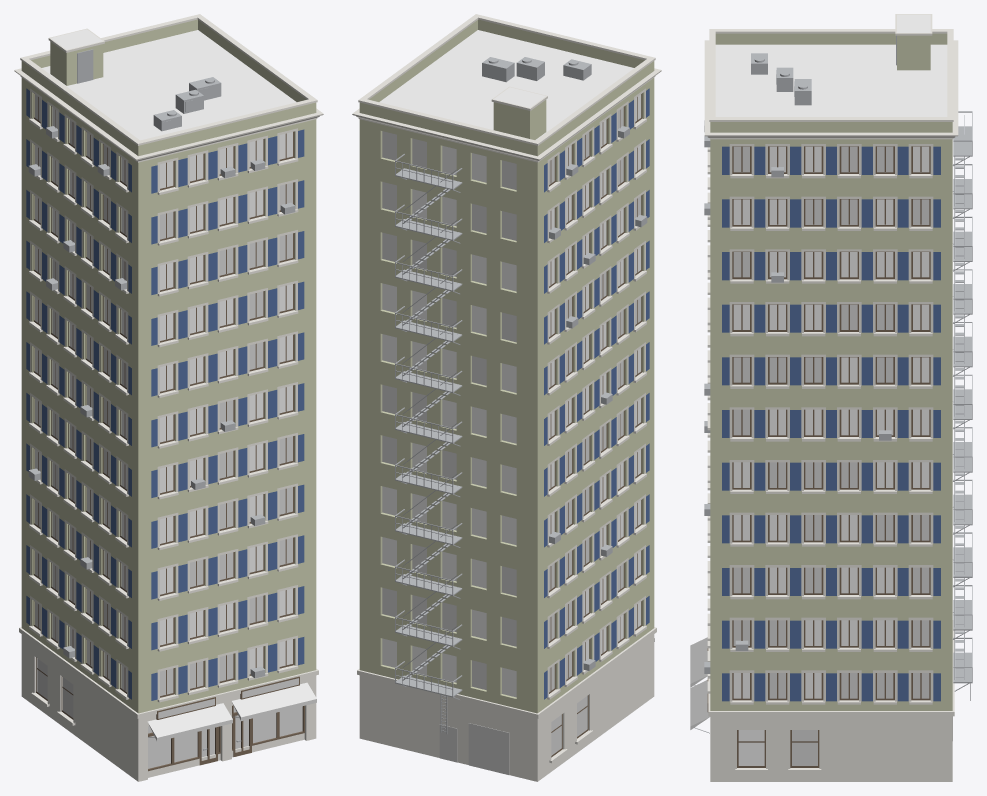
Rendered from midtown_w44f11.glb.
3 renders of one model, left to right at view 1: azimuth 30°, elevation 25°; view 2: azimuth 150°, elevation 25°; view 3: azimuth 270°, elevation 25°, orthographic. The views are drawn at different scales.
Parts seen in each view (by area): view 1: midtown_w44f11_Walls, midtown_w44f11_Trim, midtown_w44f11_Accent, midtown_w44f11_Glass, midtown_w44f11_WindowsLit, midtown_w44f11_Frames, midtown_w44f11_Roof, midtown_w44f11_Details, midtown_w44f11_Awning, midtown_w44f11_Sign; view 2: midtown_w44f11_Walls, midtown_w44f11_Trim, midtown_w44f11_Glass, midtown_w44f11_Details, midtown_w44f11_WindowsLit, midtown_w44f11_Roof, midtown_w44f11_Accent, midtown_w44f11_Frames, midtown_w44f11_Doors; view 3: midtown_w44f11_Walls, midtown_w44f11_Trim, midtown_w44f11_Accent, midtown_w44f11_Glass, midtown_w44f11_Roof, midtown_w44f11_Frames, midtown_w44f11_WindowsLit, midtown_w44f11_Details, midtown_w44f11_Awning.
Part boxes in pixels (<box>): midtown_w44f11_Walls: <box>21,19,316,713</box>; midtown_w44f11_Trim: <box>14,14,323,781</box>; midtown_w44f11_Accent: <box>26,88,304,700</box>; midtown_w44f11_Glass: <box>35,107,292,692</box>; midtown_w44f11_WindowsLit: <box>35,94,302,768</box>; midtown_w44f11_Frames: <box>33,93,304,771</box>; midtown_w44f11_Roof: <box>42,29,296,140</box>; midtown_w44f11_Details: <box>28,49,295,750</box>; midtown_w44f11_Awning: <box>147,682,316,741</box>; midtown_w44f11_Sign: <box>158,678,298,718</box>; midtown_w44f11_Walls: <box>359,19,654,713</box>; midtown_w44f11_Trim: <box>352,14,661,781</box>; midtown_w44f11_Glass: <box>382,94,640,697</box>; midtown_w44f11_Details: <box>395,57,647,733</box>; midtown_w44f11_WindowsLit: <box>382,107,640,755</box>; midtown_w44f11_Roof: <box>379,30,633,140</box>; midtown_w44f11_Accent: <box>544,88,649,699</box>; midtown_w44f11_Frames: <box>549,93,642,757</box>; midtown_w44f11_Doors: <box>439,723,509,774</box>; midtown_w44f11_Walls: <box>710,33,952,710</box>; midtown_w44f11_Trim: <box>704,14,958,781</box>; midtown_w44f11_Accent: <box>722,146,940,701</box>; midtown_w44f11_Glass: <box>733,146,929,765</box>; midtown_w44f11_Roof: <box>715,14,947,116</box>; midtown_w44f11_Frames: <box>707,146,930,767</box>; midtown_w44f11_WindowsLit: <box>733,146,929,765</box>; midtown_w44f11_Details: <box>694,35,972,733</box>; midtown_w44f11_Awning: <box>690,637,710,729</box>.
Size of the model in its own units: 46.6 by 157 by 58.4.
